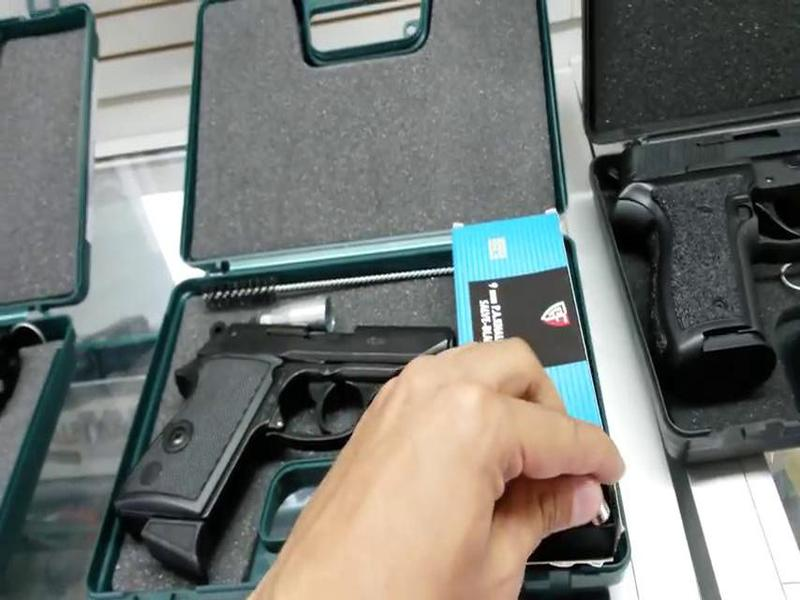Pistola: (114, 274, 493, 580)
